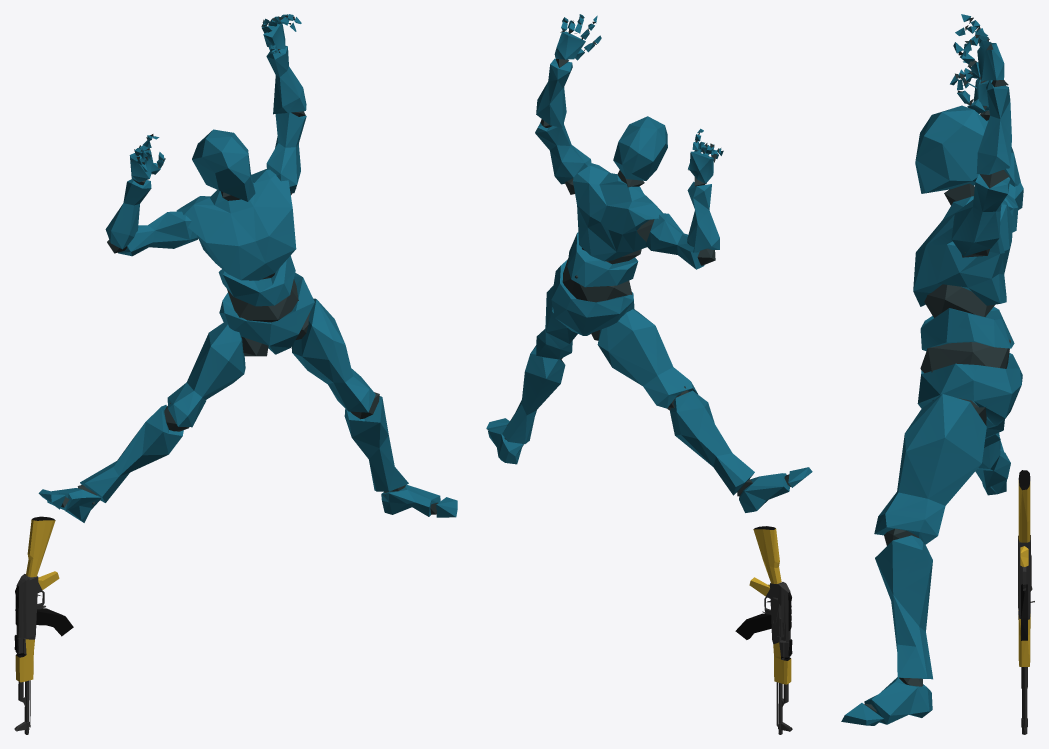
File: EnemyDying_000118.obj
3 renders of one model, left to right at view 1: azimuth 30°, elevation 25°; view 2: azimuth 150°, elevation 25°; view 3: azimuth 270°, elevation 25°, orthographic. The views are drawn at different scales.
Visible parts, largest first — view 1: Alpha_Surface, AK-47_Cube, Alpha_Joints; view 2: Alpha_Surface, AK-47_Cube, Alpha_Joints; view 3: Alpha_Surface, Alpha_Joints, AK-47_Cube.
Part boxes in pixels (left/top/right/bottom): Alpha_Surface: left=38, top=14, right=457, bottom=522; AK-47_Cube: left=14, top=516, right=73, bottom=734; Alpha_Joints: left=61, top=15, right=438, bottom=514; Alpha_Surface: left=486, top=14, right=812, bottom=512; AK-47_Cube: left=735, top=526, right=792, bottom=734; Alpha_Joints: left=504, top=16, right=790, bottom=496; Alpha_Surface: left=841, top=14, right=1023, bottom=725; Alpha_Joints: left=864, top=17, right=1010, bottom=712; AK-47_Cube: left=1018, top=470, right=1034, bottom=734.
Bounding box in the file's own units: 312 × 534 × 110.
